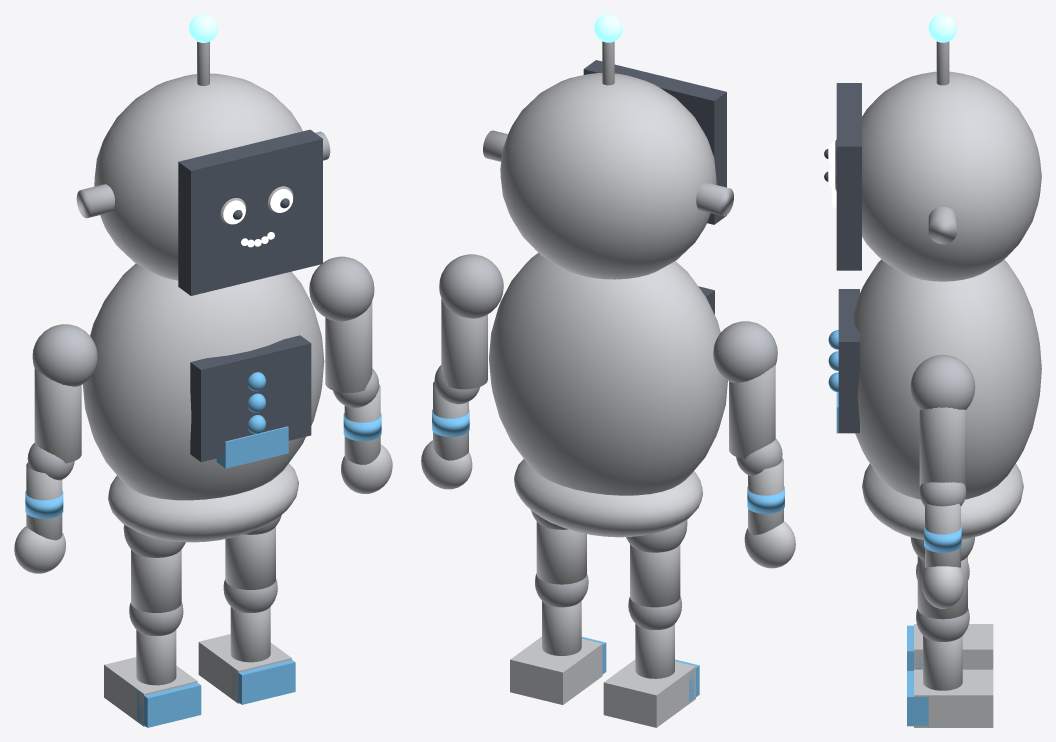
Rendered from robot.glb.
3 renders of one model, left to right at view 1: azimuth 30°, elevation 25°; view 2: azimuth 150°, elevation 25°; view 3: azimuth 270°, elevation 25°, orthographic.
Parts seen in each view (by area): view 1: Torso, Head, FaceScreen, ChestPanel, Hip, UpperArmL, UpperArmR, ShoulderR, ShoulderL, UpperLegL, UpperLegR, FootR (+19 smaller); view 2: Torso, Head, Hip, FootR, FootL, FaceScreen, UpperArmL, UpperArmR, ShoulderR, ShoulderL, UpperLegL, UpperLegR (+15 smaller); view 3: Head, Torso, Hip, FaceScreen, UpperArmR, FootR, ChestPanel, ShoulderR, LowerLegR, FootL, ForearmR, HandR (+9 smaller).
Boxes of the visible parts, <box> form: Torso: <box>82,263,324,500</box>; Head: <box>94,73,302,280</box>; FaceScreen: <box>178,129,322,295</box>; ChestPanel: <box>190,335,311,462</box>; Hip: <box>108,463,298,542</box>; UpperArmL: <box>34,368,81,463</box>; UpperArmR: <box>325,301,372,392</box>; ShoulderR: <box>309,256,374,321</box>; ShoulderL: <box>32,324,97,386</box>; UpperLegL: <box>131,549,181,612</box>; UpperLegR: <box>225,526,275,589</box>; FootR: <box>198,634,291,703</box>; Torso: <box>489,253,727,495</box>; Head: <box>500,73,716,279</box>; Hip: <box>514,459,702,537</box>; FootR: <box>510,636,602,704</box>; FootL: <box>603,659,695,727</box>; FaceScreen: <box>583,60,726,224</box>; UpperArmL: <box>729,365,775,458</box>; UpperArmR: <box>441,298,487,389</box>; ShoulderR: <box>439,254,503,318</box>; ShoulderL: <box>713,321,777,382</box>; UpperLegL: <box>630,544,680,607</box>; UpperLegR: <box>536,521,586,584</box>; Head: <box>862,71,1041,281</box>; Torso: <box>853,259,1041,499</box>; Hip: <box>862,463,1023,539</box>; FaceScreen: <box>836,83,861,270</box>; UpperArmR: <box>919,407,966,486</box>; FootR: <box>914,669,993,727</box>; ChestPanel: <box>838,289,859,433</box>; ShoulderR: <box>910,355,975,409</box>; LowerLegR: <box>923,635,962,690</box>; FootL: <box>914,624,993,669</box>; ForearmR: <box>925,503,960,567</box>; HandR: <box>921,566,964,608</box>.
Bounding box in the file's own units: 2.38 × 4.15 × 1.21.
